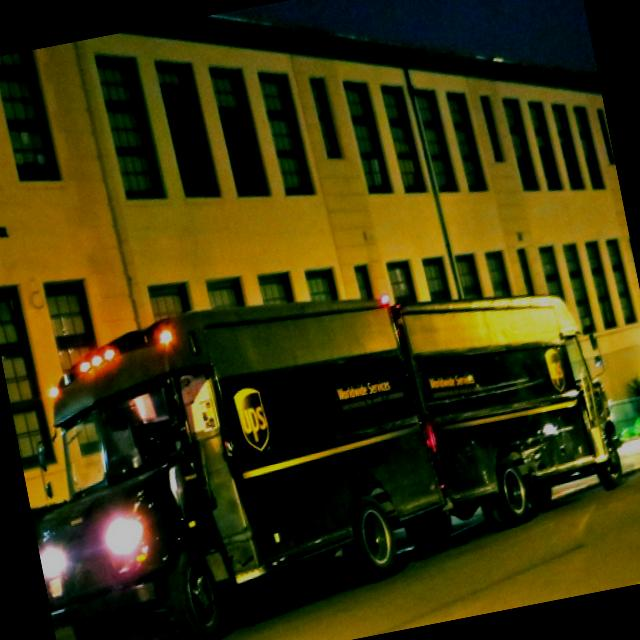Vehicle: (5, 247, 635, 640)
